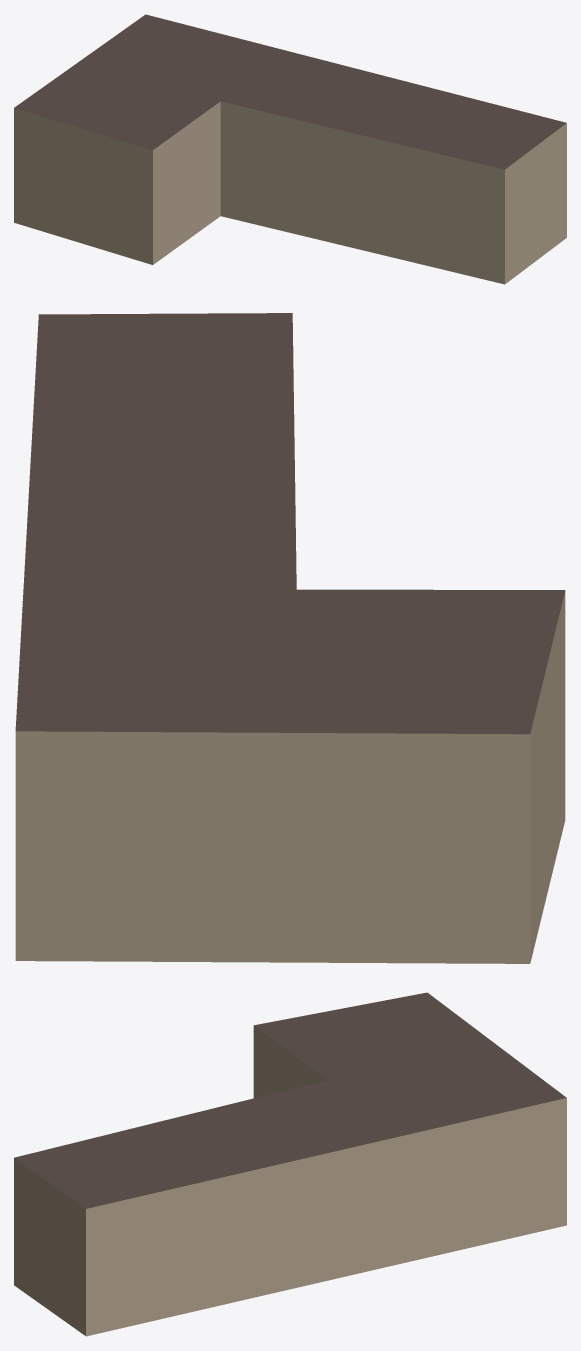
3 renders of one model, top to bottom at view 1: azimuth 30°, elevation 25°; view 2: azimuth 150°, elevation 25°; view 3: azimuth 270°, elevation 25°, orthographic. The views are drawn at different scales.
Visible parts, largest first — view 1: HP-w1197841108; view 2: HP-w1197841108; view 3: HP-w1197841108.
Part boxes in pixels (left/top/right/bottom): HP-w1197841108: left=14, top=14, right=566, bottom=284; HP-w1197841108: left=15, top=313, right=565, bottom=963; HP-w1197841108: left=14, top=992, right=566, bottom=1336.
Bounding box in the file's own units: 32.75 × 9 × 35.36.
